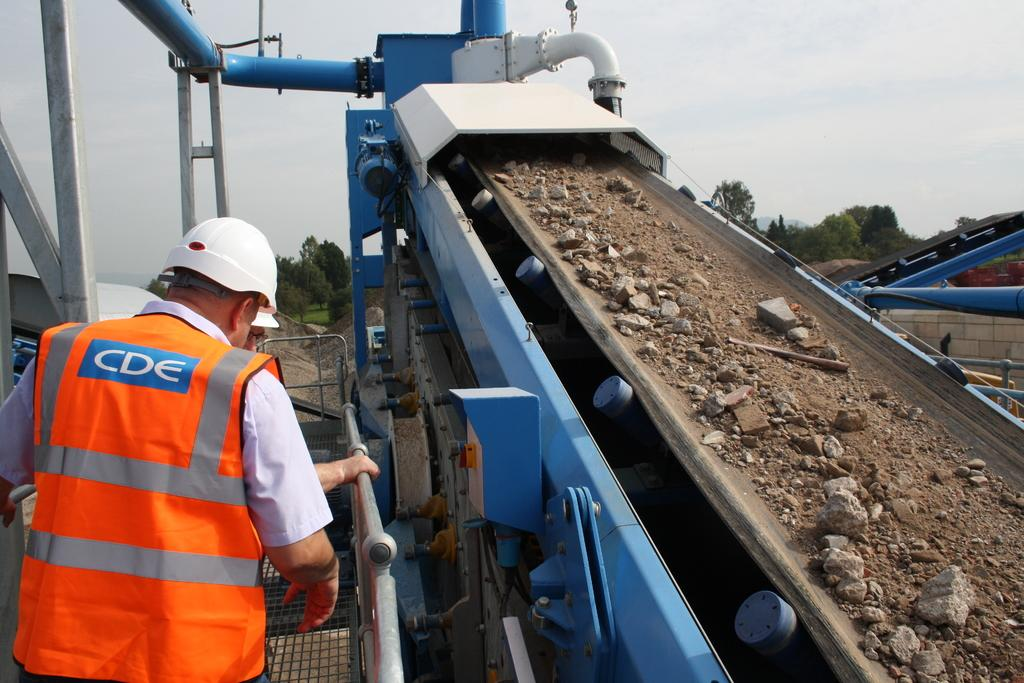helmet: (161, 217, 278, 355)
